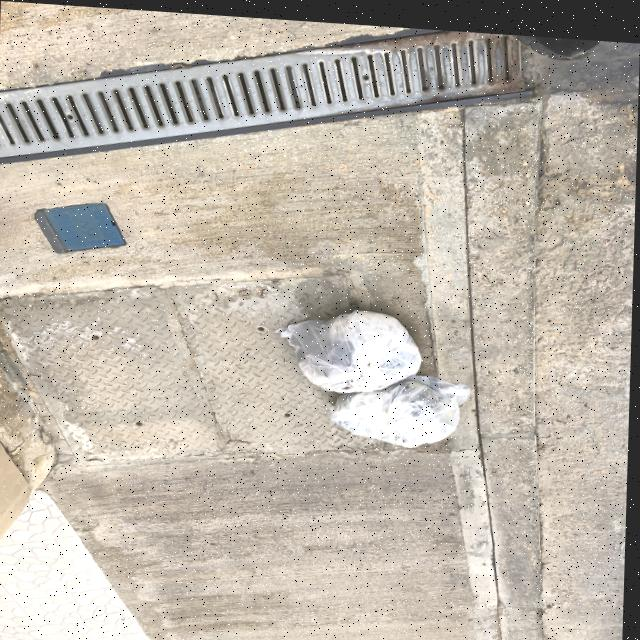Organic Waste -White Bag-: (273, 295, 431, 389), (334, 366, 474, 448)
